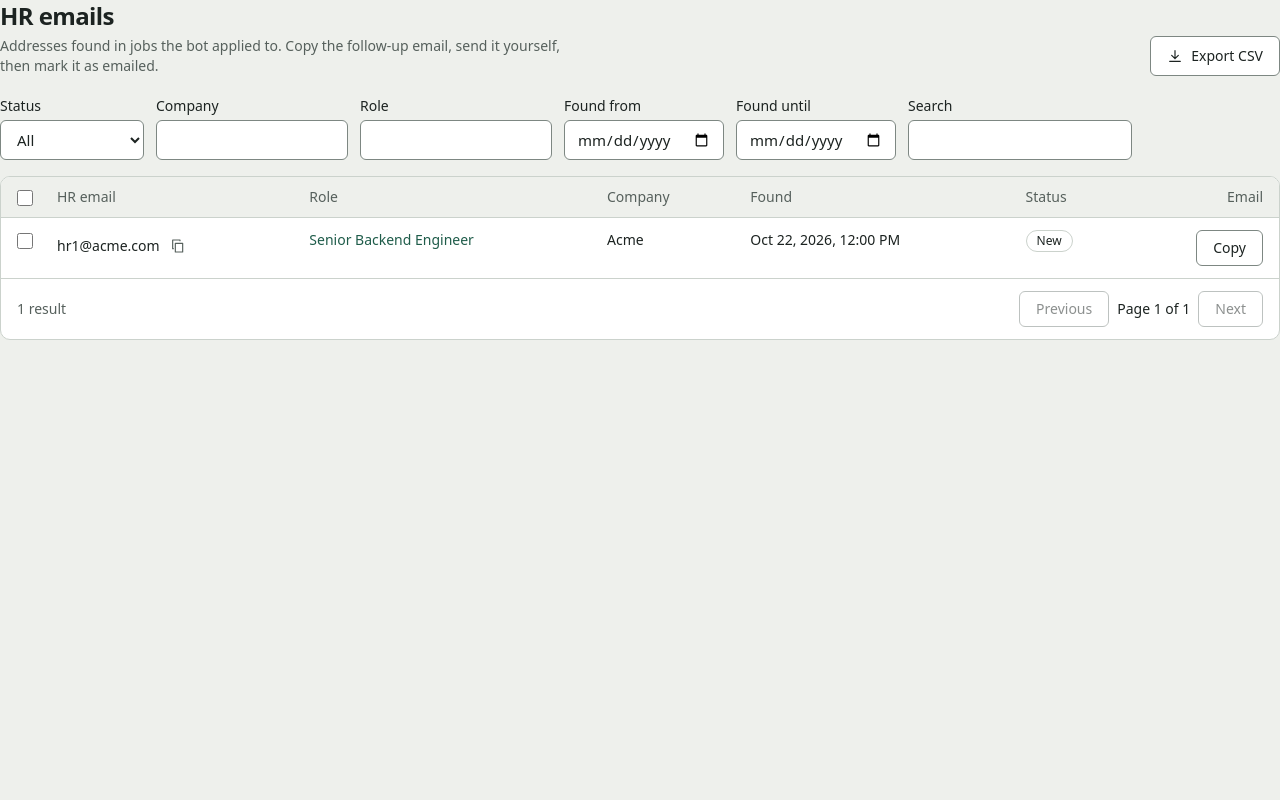
Test: confirm no leaves status new
Click the button with aria-label "Copy email to hr1@acme.com": coordinates (1230, 248) [1196, 230, 1263, 266]
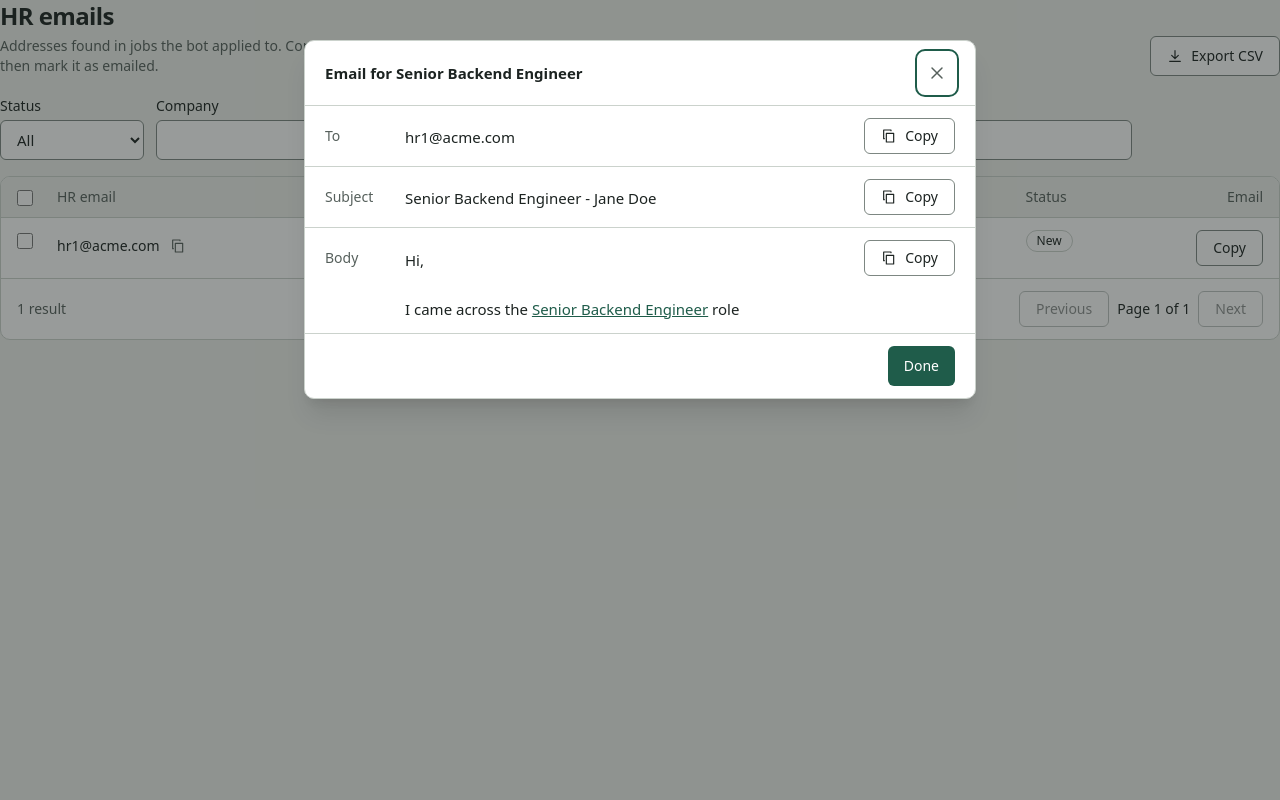
Press Escape
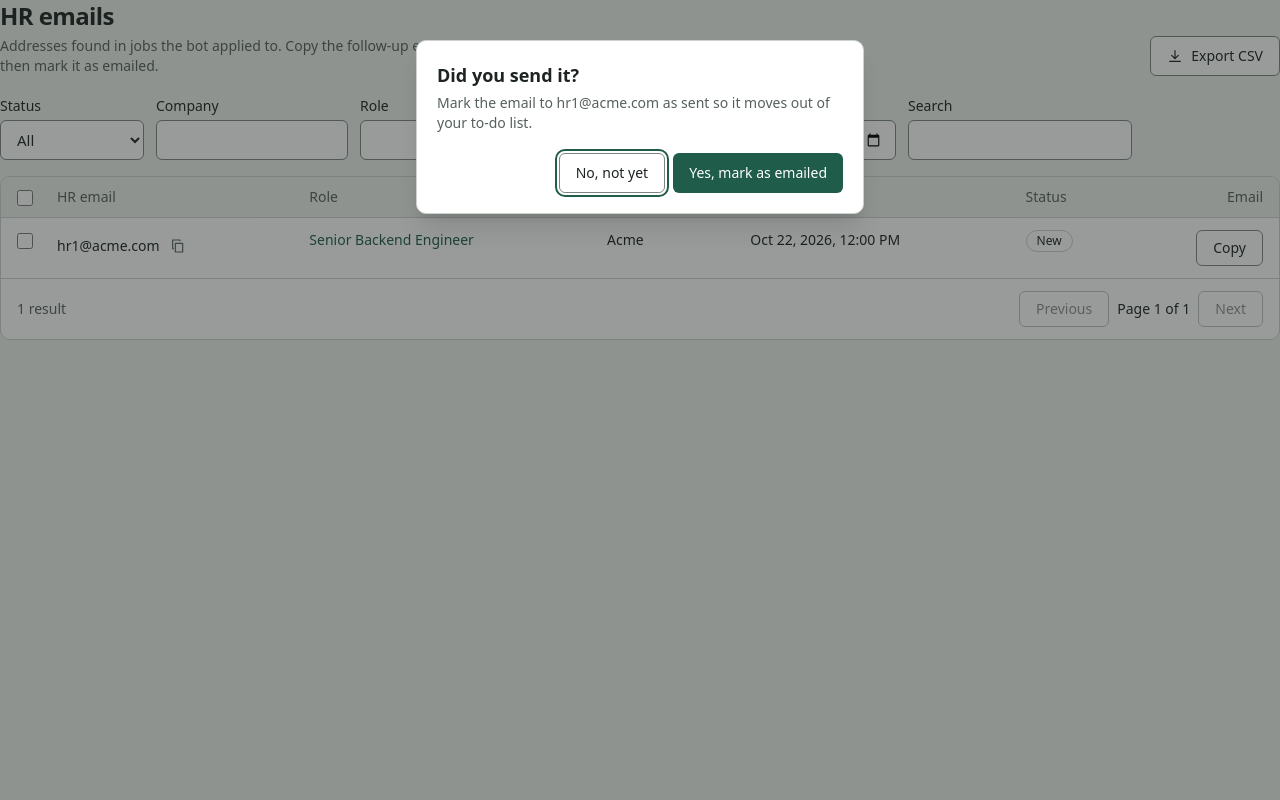
Click the button "No, not yet": coordinates (612, 173) [559, 153, 665, 193]
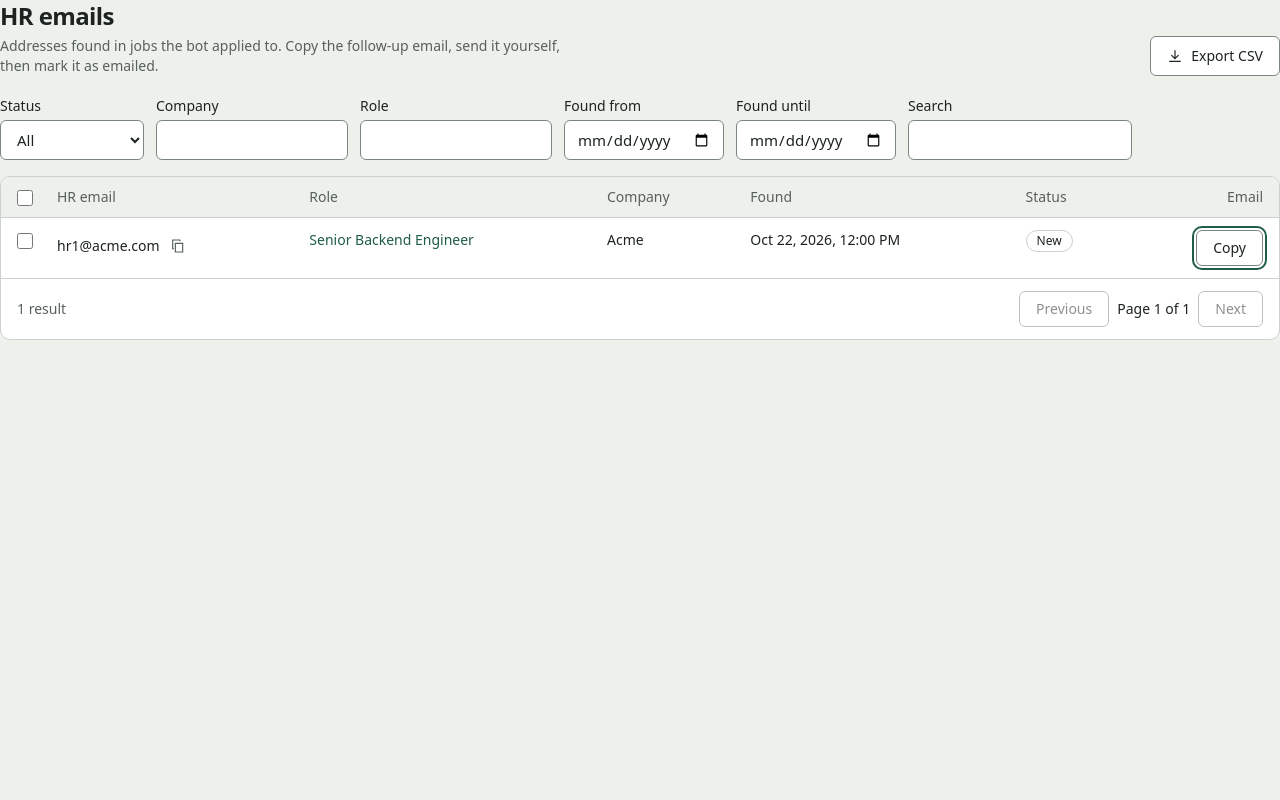
Check: the text "New" is shown, box [1026, 230, 1073, 252]
Check: the dialog is gone
